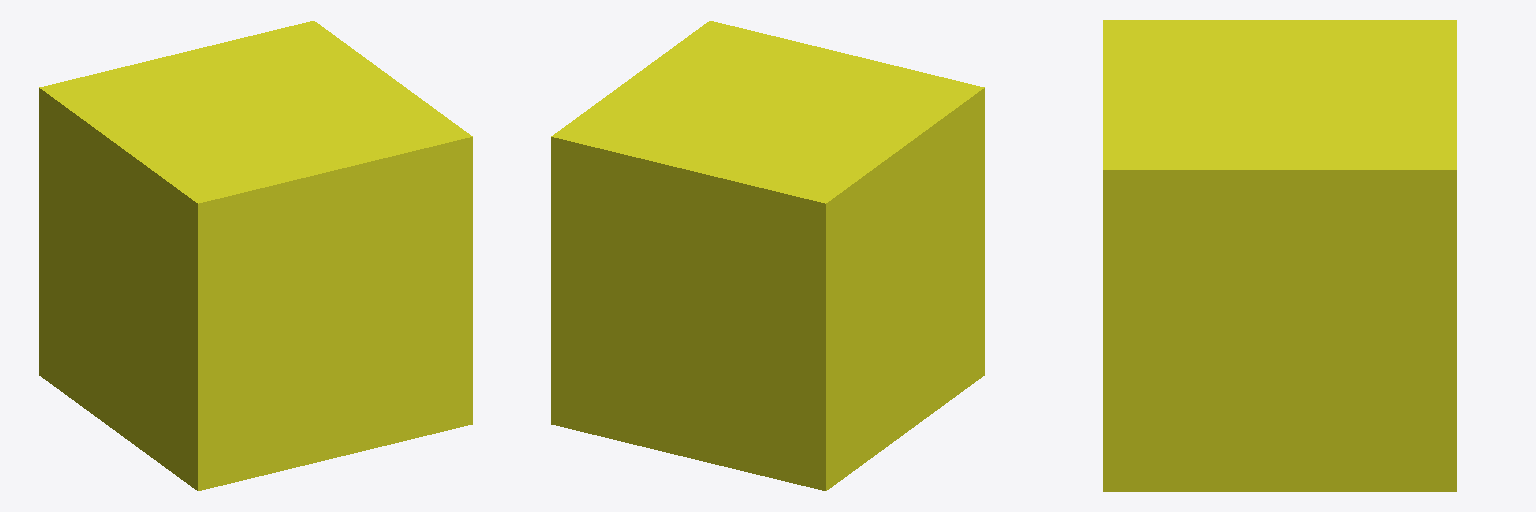
The robot description file, URDF, robot "cube_item":
<?xml version="1.0"?>
<robot name="cube_item">
  <link name="item">
    <visual>
      <geometry>
        <box size="0.05 0.05 0.05"/>
      </geometry>
      <material name="yellow">
        <color rgba="0.9 0.9 0.2 1"/>
      </material>
    </visual>
    <collision>
      <geometry>
        <box size="0.05 0.05 0.05"/>
      </geometry>
    </collision>
    <inertial>
      <mass value="0.1"/>
      <inertia ixx="0.0001" ixy="0" ixz="0" iyy="0.0001" iyz="0" izz="0.0001"/>
    </inertial>
  </link>
</robot>

--- Render facts (derived) ---
Views: 3 orthographic renders of the robot side by side, from view 1: azimuth 30°, elevation 25°; view 2: azimuth 150°, elevation 25°; view 3: azimuth 270°, elevation 25°.
Robot: cube_item — 1 links, 0 joints (none); root link item; default pose: every joint at zero.
Visible links, largest first — view 1: item; view 2: item; view 3: item.
Link boxes in pixels (x1=…): item: x1=39, y1=21, x2=472, y2=490; item: x1=551, y1=21, x2=984, y2=490; item: x1=1103, y1=20, x2=1456, y2=491.
Size in the robot's own frame: 0.05 by 0.05 by 0.05 metres.
Geometry: primitives only (box / cylinder / sphere), no mesh files.